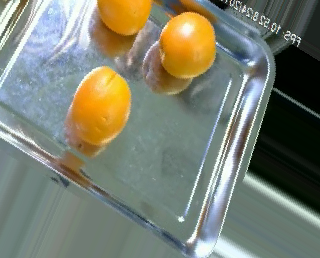Orange: (69, 65, 131, 145), (158, 11, 216, 78)
